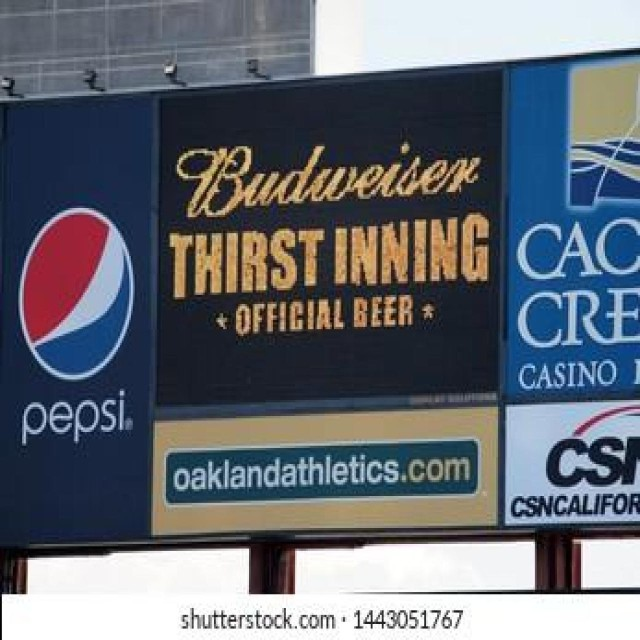pepsi: (19, 203, 137, 384)
